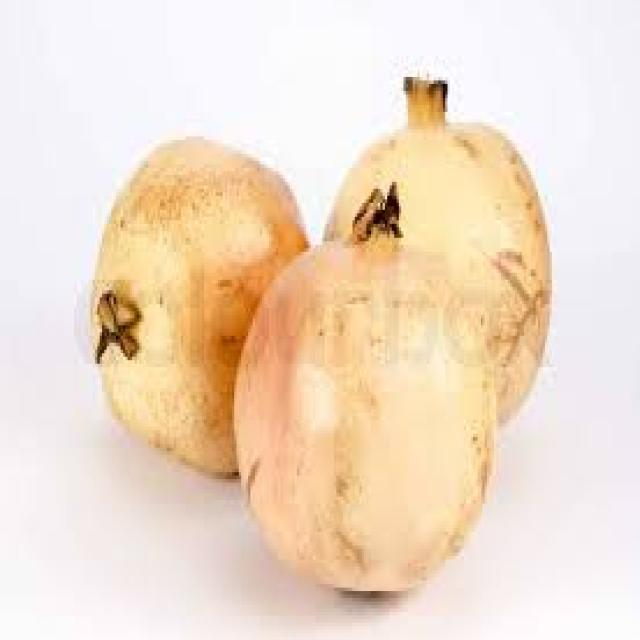Pomegranate: (254, 237, 481, 609), (86, 152, 279, 478), (341, 113, 560, 398)
